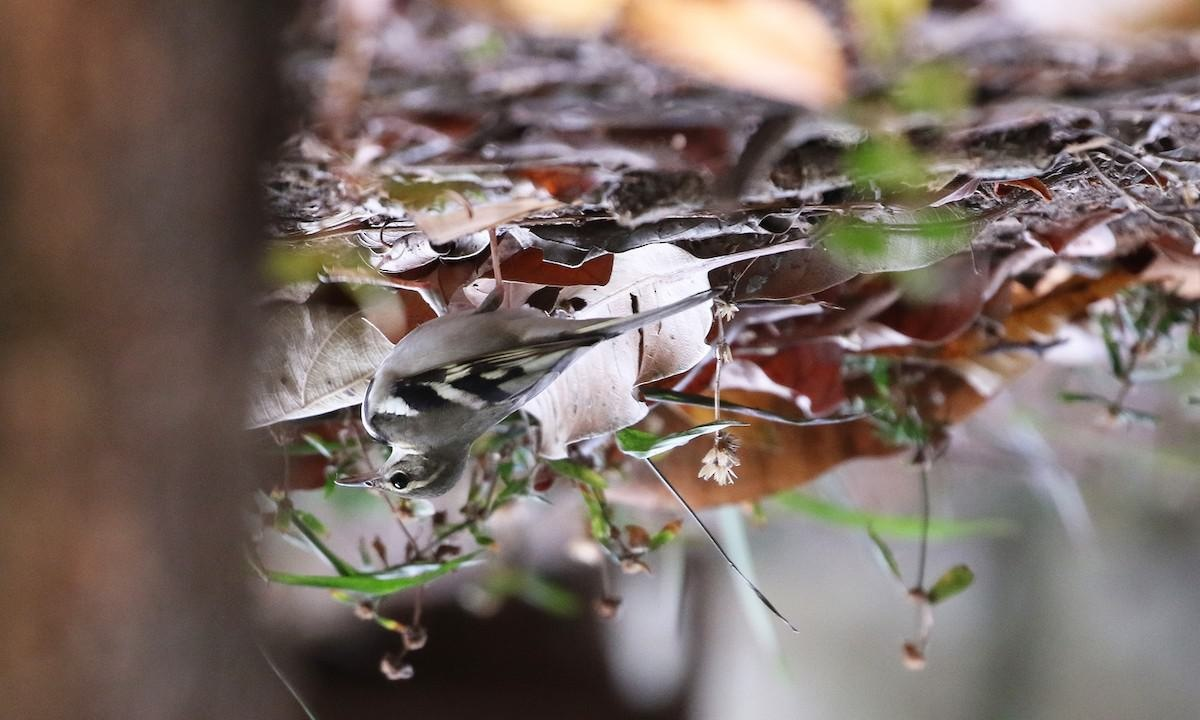wagtail: (353, 271, 673, 504)
